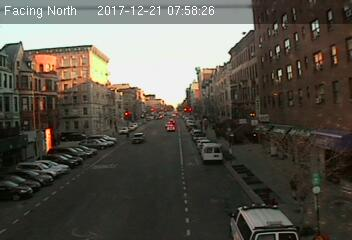car: (131, 132, 145, 144)
police: (224, 201, 301, 240)
truck: (202, 143, 224, 164)
